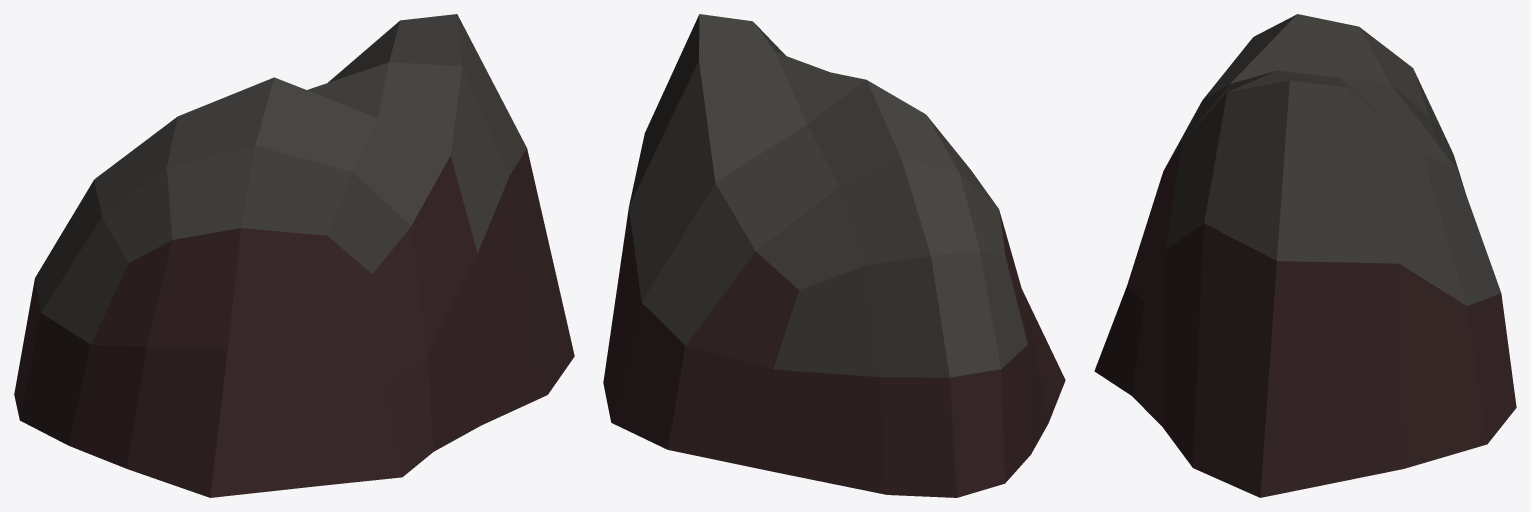
Rendered from SM_Mountain_T2.fbx.
3 renders of one model, left to right at view 1: azimuth 30°, elevation 25°; view 2: azimuth 150°, elevation 25°; view 3: azimuth 270°, elevation 25°, orthographic. The views are drawn at different scales.
Parts seen in each view (by area): view 1: SM_Mountain_T2; view 2: SM_Mountain_T2; view 3: SM_Mountain_T2.
Boxes of the visible parts, x1,y1,x2,y2 form: SM_Mountain_T2: (14,14,574,497); SM_Mountain_T2: (603,14,1065,497); SM_Mountain_T2: (1094,14,1516,497).
Bounding box in the file's own units: 790 × 559 × 585.
